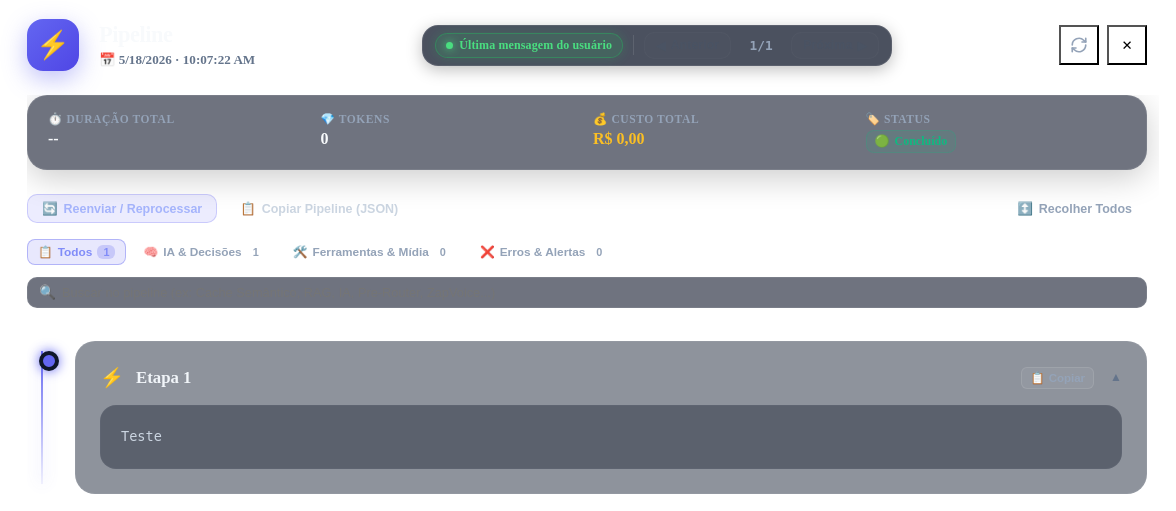
Test: AutomationPipelineModal Component › deve copiar JSON do pipeline ao clicar no botão Copiar
Click the text "Copiar Pipeline (JSON)".
click(330, 208)  # box x1=262 y1=202 x2=398 y2=216
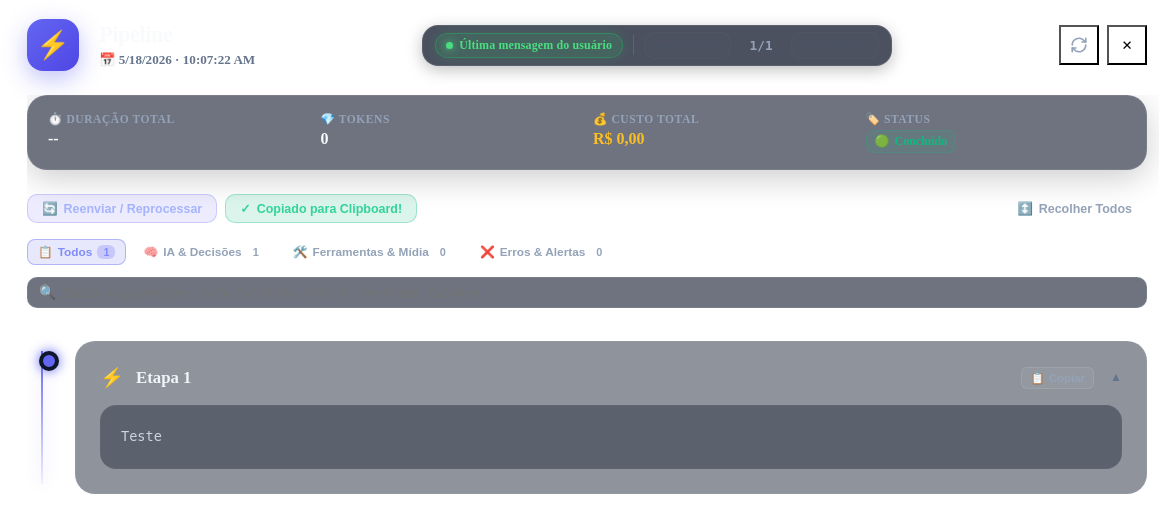
Check: the text "Copiado para Clipboard!" is shown, box x1=257 y1=202 x2=402 y2=216
